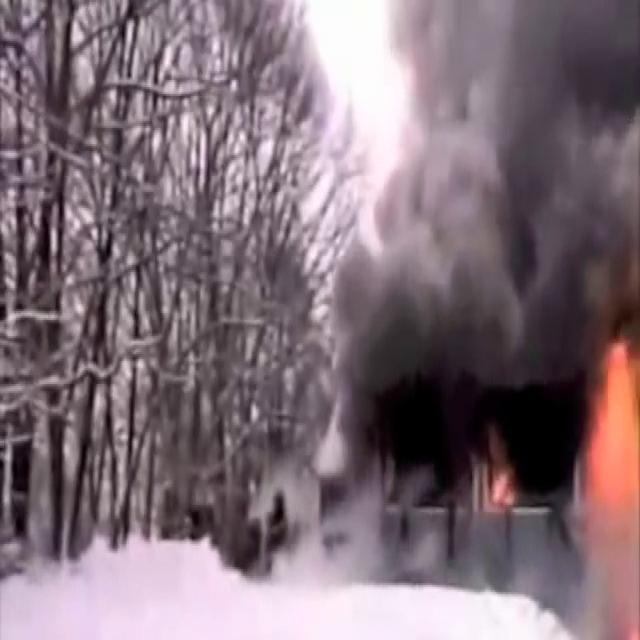Fire: (568, 326, 640, 636)
Smoke: (288, 0, 640, 585)
